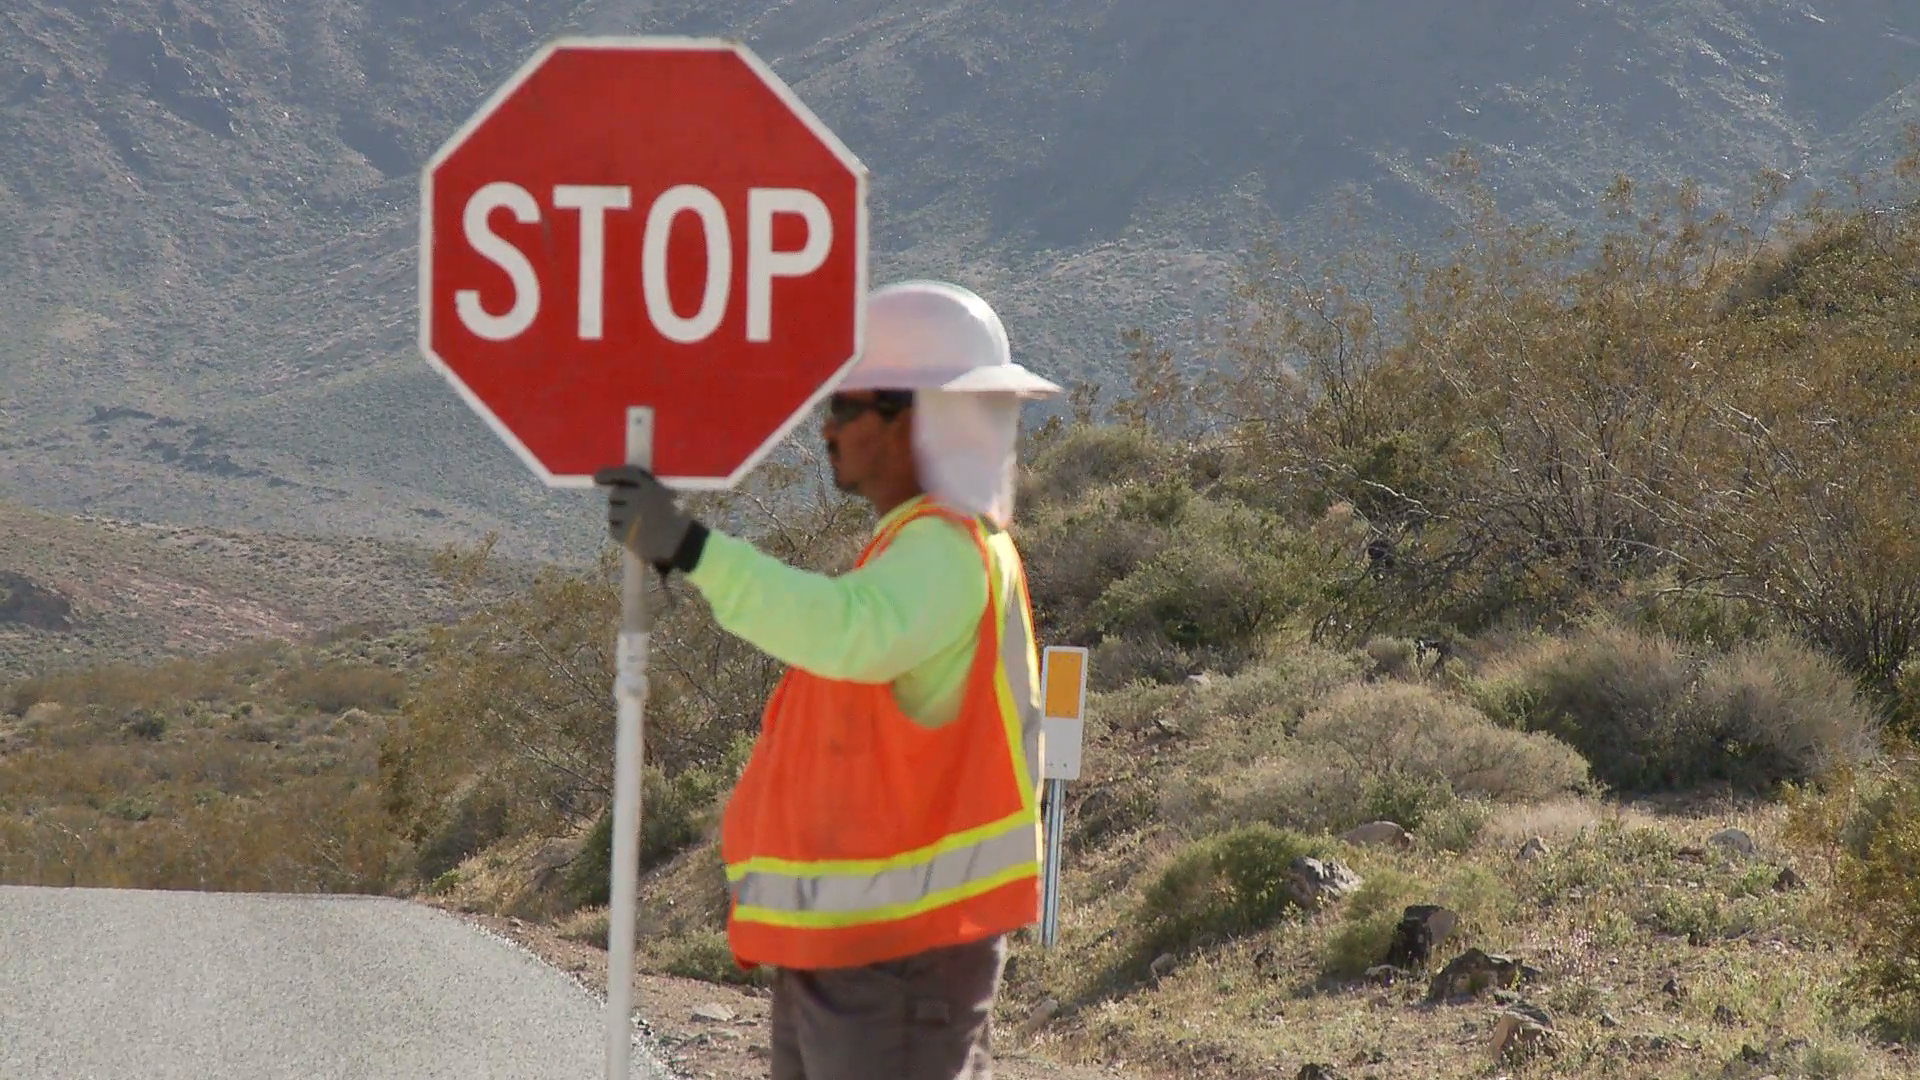stop: (407, 35, 880, 500)
